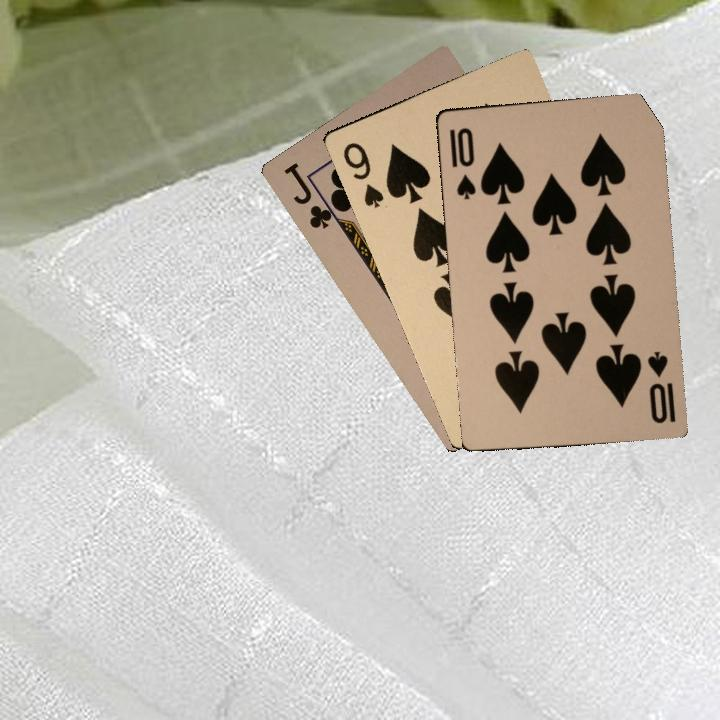10s: (643, 347, 679, 426), (445, 123, 479, 201)
9s: (339, 138, 387, 211)
Jc: (279, 158, 344, 232)
